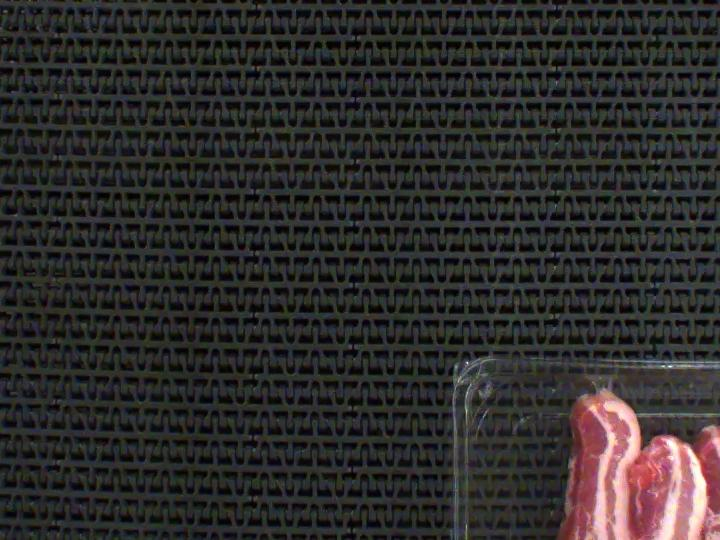packaging-error: (586, 366, 622, 400)
